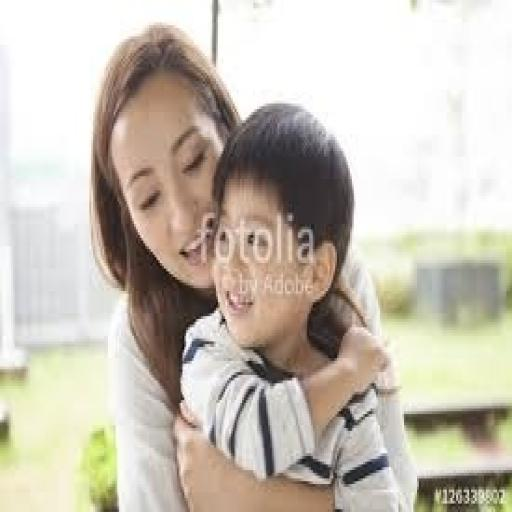hugging: (88, 20, 415, 509)
